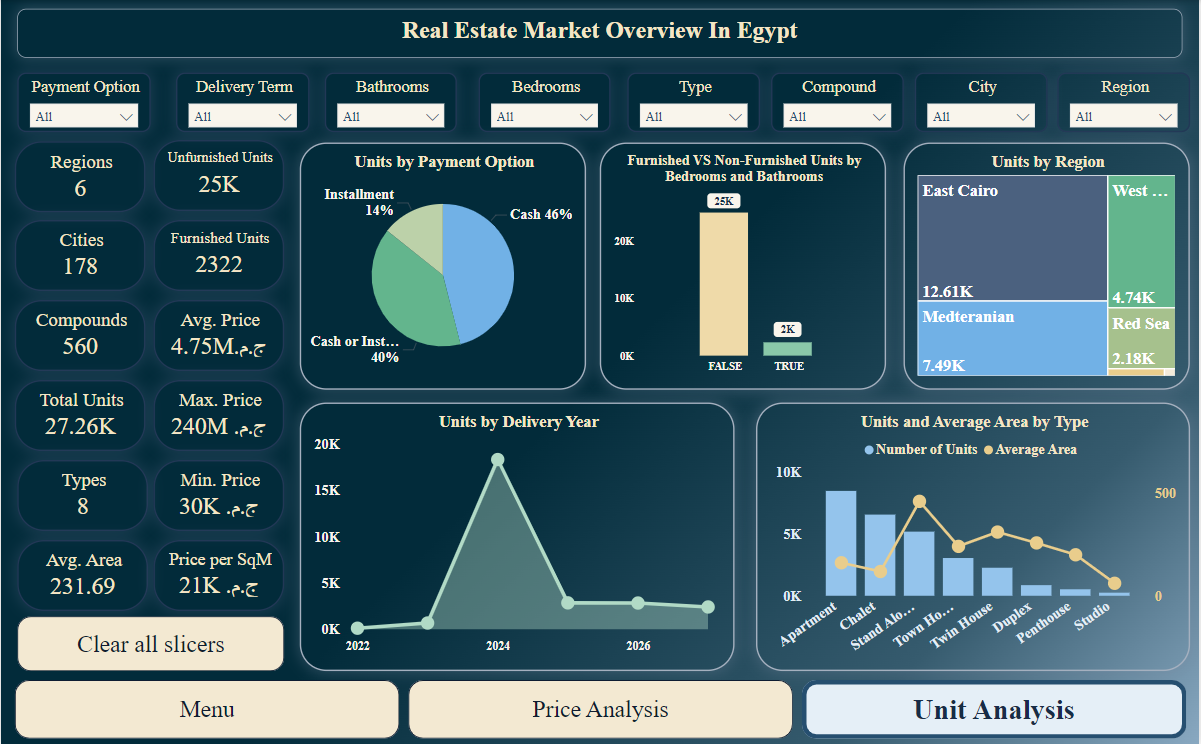

Layout of this report page (visuals, bound fields, positions):
{"tool":"powerbi","page":{"name":"Unit Analysis","canvas":[1350,840],"ordinal":6},"visuals":[{"type":"slicer","title":"Region","fields":{"Values":["Clean_Egypt_House_prices_Original.Region"]},"box":[1189.6,82.2,149.6,67.5],"z":0},{"type":"treemap","title":"Units by Region","fields":{"Group":["egypt_House_prices_Original.Region"],"Values":["CountNonNull(egypt_House_prices_Original.Index)"]},"box":[1016.2,160.5,322.3,278.7],"z":1000},{"type":"areaChart","title":"Units by Delivery Year","fields":{"Category":["egypt_House_prices_Original.delivery_Date"],"Y":["CountNonNull(egypt_House_prices_Original.Index)"]},"box":[336.4,453.2,489.8,302.6],"z":2000},{"type":"clusteredColumnChart","title":"Furnished VS Non-Furnished Units by Bedrooms and Bathrooms","fields":{"Category":["egypt_House_prices_Original.Furnished","egypt_House_prices_Original.Bedrooms","egypt_House_prices_Original.Bathrooms"],"Y":["CountNonNull(egypt_House_prices_Original.Index)"]},"box":[674.2,160,322.3,278],"z":3000},{"type":"pieChart","title":"Units by Payment Option","fields":{"Category":["egypt_House_prices_Original.Payment_Option"],"Y":["Count(egypt_House_prices_Original.Index)"]},"box":[336.4,160,322.3,278],"z":4000},{"type":"textbox","box":[18.3,9.9,1311.8,54.9],"z":5000},{"type":"slicer","title":"Type","fields":{"Values":["egypt_House_prices_Original.Type"]},"box":[705.2,82.2,149.6,67.5],"z":6000},{"type":"lineClusteredColumnComboChart","title":"Units and Average Area by Type","fields":{"Category":["egypt_House_prices_Original.Type"],"Y":["CountNonNull(egypt_House_prices_Original.Index)"],"Y2":["Avg(egypt_House_prices_Original.Area)"]},"box":[850.1,453.2,489,302.6],"z":7000},{"type":"slicer","title":"Delivery Term","fields":{"Values":["egypt_House_prices_Original.Delivery_Term"]},"box":[197.1,81.6,150.6,67.6],"z":8000},{"type":"slicer","title":"Bathrooms","fields":{"Values":["egypt_House_prices_Original.Bathrooms"]},"box":[364.5,81.6,149.2,67.6],"z":9000},{"type":"slicer","title":"Bedrooms","fields":{"Values":["Clean_Egypt_House_prices_Original.Bedrooms"]},"box":[537.7,81.6,149.2,67.6],"z":10000},{"type":"slicer","title":"City","fields":{"Values":["egypt_House_prices_Original.City"]},"box":[1028.9,82.2,149.6,67.5],"z":11000},{"type":"slicer","title":"Compound","fields":{"Values":["Clean_Egypt_House_prices_Original.Compound"]},"box":[867.1,82.2,149.6,67.5],"z":12000},{"type":"slicer","title":"Payment Option","fields":{"Values":["Clean_Egypt_House_prices_Original.Payment_Option"]},"box":[18.3,81.6,150.6,67.6],"z":13000},{"type":"card","title":"Regions","fields":{"Values":["ALL MEASURES.Regions"]},"box":[15.5,158.7,147.1,80],"z":14000},{"type":"card","title":"Cities","fields":{"Values":["ALL MEASURES.Cities"]},"box":[15,248,147.1,80],"z":15000},{"type":"card","title":"Compounds","fields":{"Values":["ALL MEASURES.Compounds"]},"box":[15.5,338,147.1,80],"z":16000},{"type":"card","title":"Total Units","fields":{"Values":["ALL MEASURES.UnitsCount"]},"box":[15,428,147.1,80],"z":17000},{"type":"card","title":"Types","fields":{"Values":["ALL MEASURES.Types"]},"box":[18.1,518,147.1,80],"z":18000},{"type":"card","title":"Avg. Area","fields":{"Values":["ALL MEASURES.Average Area"]},"box":[18,608,147.1,80],"z":19000},{"type":"card","title":"Unfurnished Units","fields":{"Values":["ALL MEASURES.UnFurnished Properties"]},"box":[172,158,147.1,80],"z":20000},{"type":"card","title":"Furnished Units","fields":{"Values":["ALL MEASURES.Furnished Properties"]},"box":[172,248,147.1,80],"z":21000},{"type":"card","title":"Avg. Price","fields":{"Values":["ALL MEASURES.Average Price"]},"box":[172,338,147.1,80],"z":22000},{"type":"card","title":"Max. Price","fields":{"Values":["ALL MEASURES.Max Price"]},"box":[172,428,147.1,80],"z":23000},{"type":"card","title":"Min. Price","fields":{"Values":["ALL MEASURES.Min Price"]},"box":[172,518,147.1,80],"z":24000},{"type":"card","title":"Price per SqM","fields":{"Values":["ALL MEASURES.Price per SqM"]},"box":[172,608,147.1,80],"z":25000},{"type":"pageNavigator","box":[26.7,774.1,1320.2,66.2],"z":26000},{"type":"actionButton","box":[18.1,694.1,300.6,61.9],"z":27000}]}

Visuals, with their boxes in screenshot pixels (x1, y1, x2, y2), scaled from the page's 1350x840 canvas onto the 1201x744 screenshot:
"Region" slicer: x1=1058, y1=73, x2=1191, y2=133
"Units by Region" treemap: x1=904, y1=142, x2=1191, y2=389
"Units by Delivery Year" areaChart: x1=299, y1=401, x2=735, y2=669
"Furnished VS Non-Furnished Units by Bedrooms and Bathrooms" clusteredColumnChart: x1=600, y1=142, x2=887, y2=388
"Units by Payment Option" pieChart: x1=299, y1=142, x2=586, y2=388
textbox: x1=16, y1=9, x2=1183, y2=57
"Type" slicer: x1=627, y1=73, x2=760, y2=133
"Units and Average Area by Type" lineClusteredColumnComboChart: x1=756, y1=401, x2=1191, y2=669
"Delivery Term" slicer: x1=175, y1=72, x2=309, y2=132
"Bathrooms" slicer: x1=324, y1=72, x2=457, y2=132
"Bedrooms" slicer: x1=478, y1=72, x2=611, y2=132
"City" slicer: x1=915, y1=73, x2=1048, y2=133
"Compound" slicer: x1=771, y1=73, x2=904, y2=133
"Payment Option" slicer: x1=16, y1=72, x2=150, y2=132
"Regions" card: x1=14, y1=141, x2=145, y2=211
"Cities" card: x1=13, y1=220, x2=144, y2=291
"Compounds" card: x1=14, y1=299, x2=145, y2=370
"Total Units" card: x1=13, y1=379, x2=144, y2=450
"Types" card: x1=16, y1=459, x2=147, y2=530
"Avg. Area" card: x1=16, y1=539, x2=147, y2=609
"Unfurnished Units" card: x1=153, y1=140, x2=284, y2=211
"Furnished Units" card: x1=153, y1=220, x2=284, y2=291
"Avg. Price" card: x1=153, y1=299, x2=284, y2=370
"Max. Price" card: x1=153, y1=379, x2=284, y2=450
"Min. Price" card: x1=153, y1=459, x2=284, y2=530
"Price per SqM" card: x1=153, y1=539, x2=284, y2=609
pageNavigator: x1=24, y1=686, x2=1198, y2=743
actionButton: x1=16, y1=615, x2=284, y2=670
